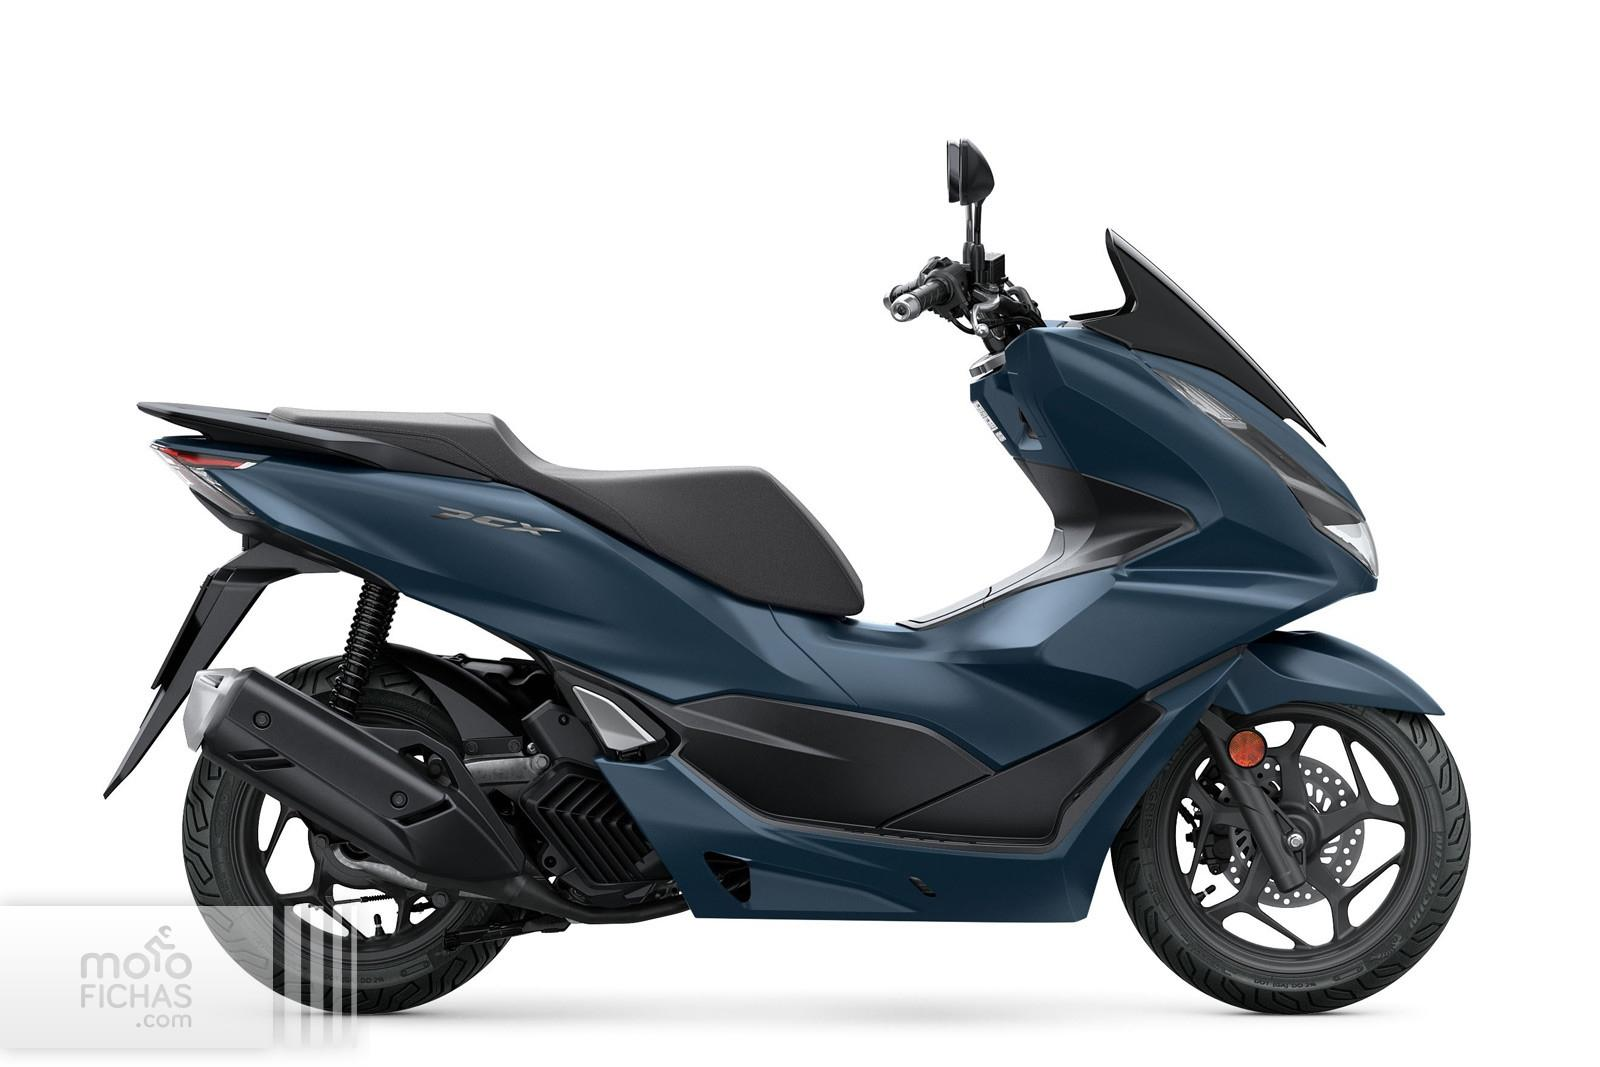engine-chasis: (518, 641, 1250, 923), (326, 580, 400, 722)
exhaust: (183, 666, 690, 923)
frontside: (769, 227, 1444, 893)
handlebar: (882, 137, 1045, 376)
motorbike: (115, 141, 1467, 1010)
rearside: (101, 401, 855, 874), (333, 843, 505, 909), (442, 913, 573, 951)
seat: (269, 406, 864, 616)
tank: (894, 460, 1201, 631)
watermark: (1, 907, 357, 1067)
wheel: (1111, 701, 1468, 1011), (182, 756, 530, 1013), (358, 657, 462, 759), (277, 655, 343, 704)
